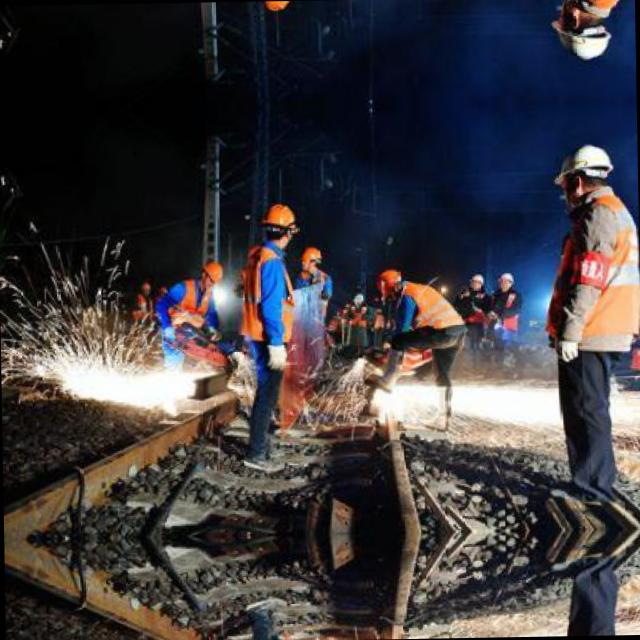helmet: (549, 4, 610, 61), (552, 142, 612, 199), (259, 197, 298, 247), (373, 264, 408, 297), (196, 256, 226, 288), (299, 240, 324, 270), (254, 0, 294, 18), (466, 270, 486, 292), (496, 269, 512, 291)
